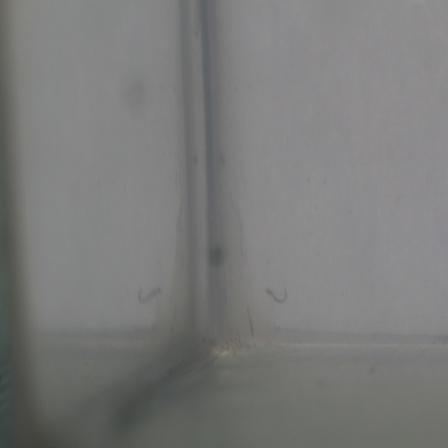Jentik-Nyamuk: (264, 284, 288, 306)
